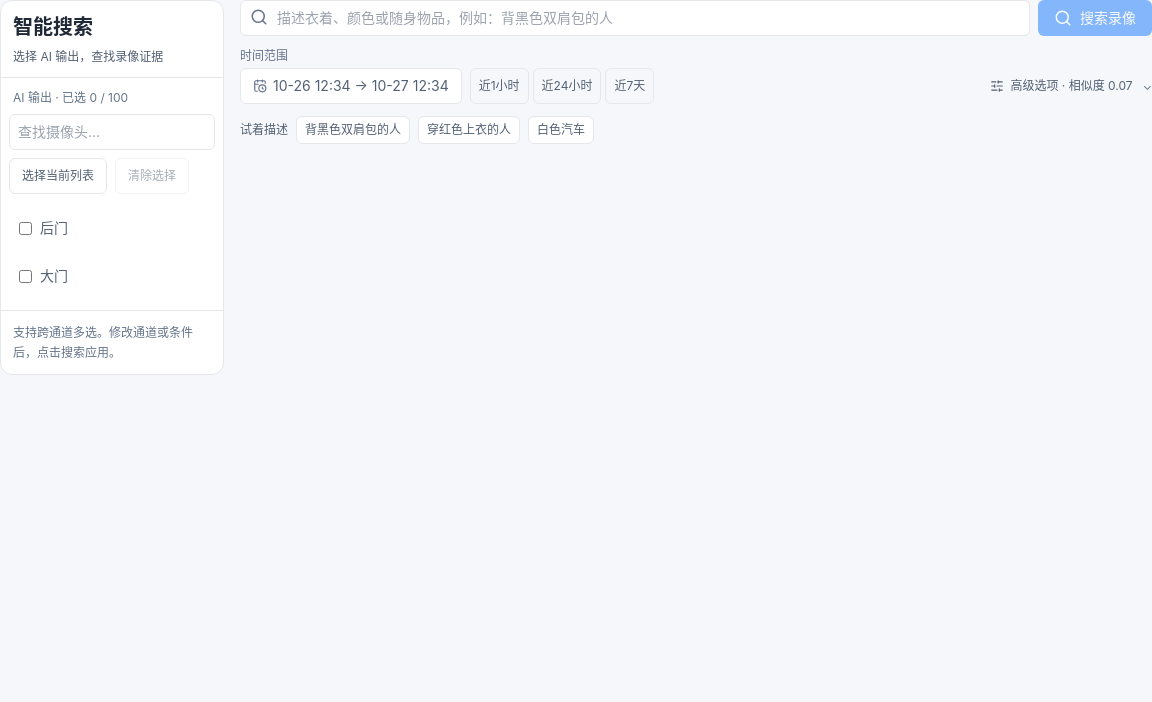
it: 近1小时 changes only the time draft until an explicit search, preserving previous evidence and coverage
Click the checkbox labelled "后门" at x=26, y=228, box [19,222,32,234]
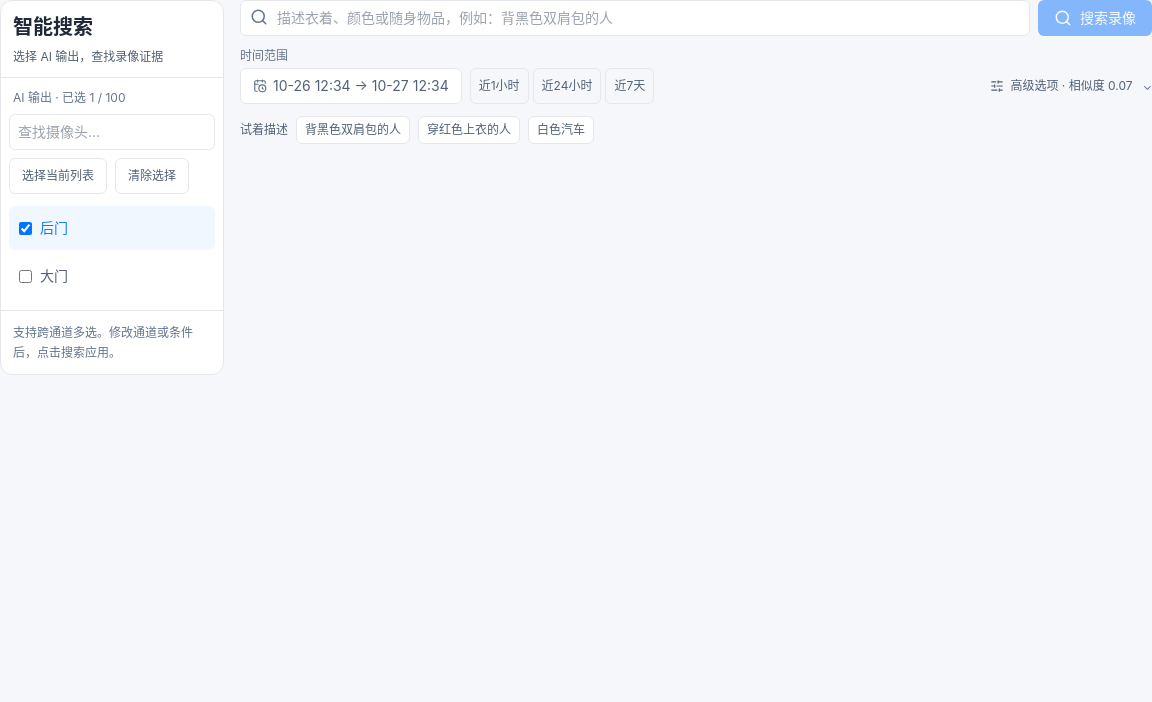
Type "黑色背包" into the field named "想找什么？" at x=635, y=18, box [240,0,1030,36]
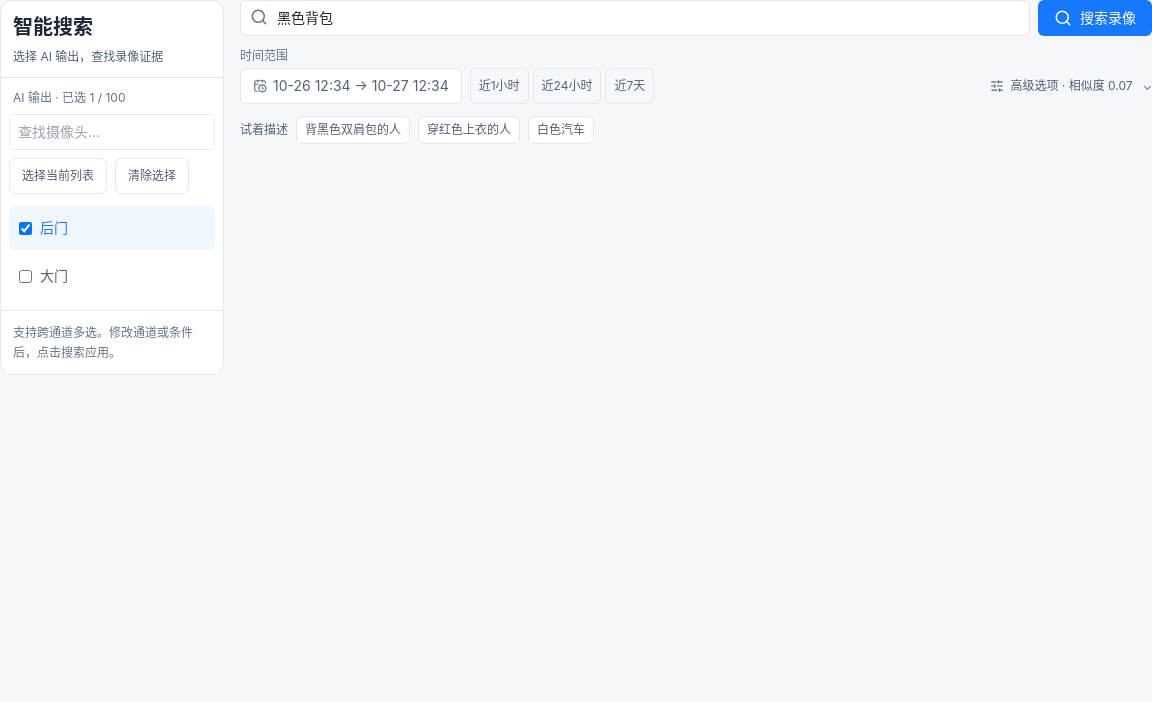
Click the button "搜索录像" at x=1095, y=18, box [1038,0,1151,36]
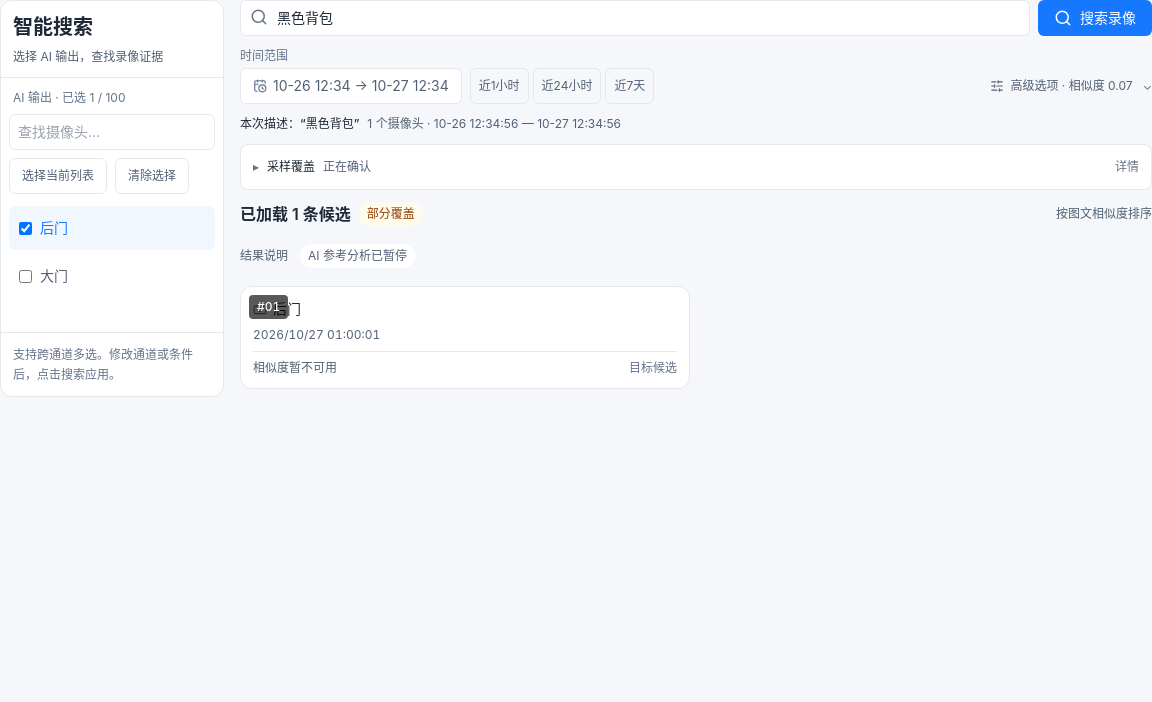
Click the button with aria-label "查看第 1 条候选：后门" at x=269, y=307, box [240,286,690,389]
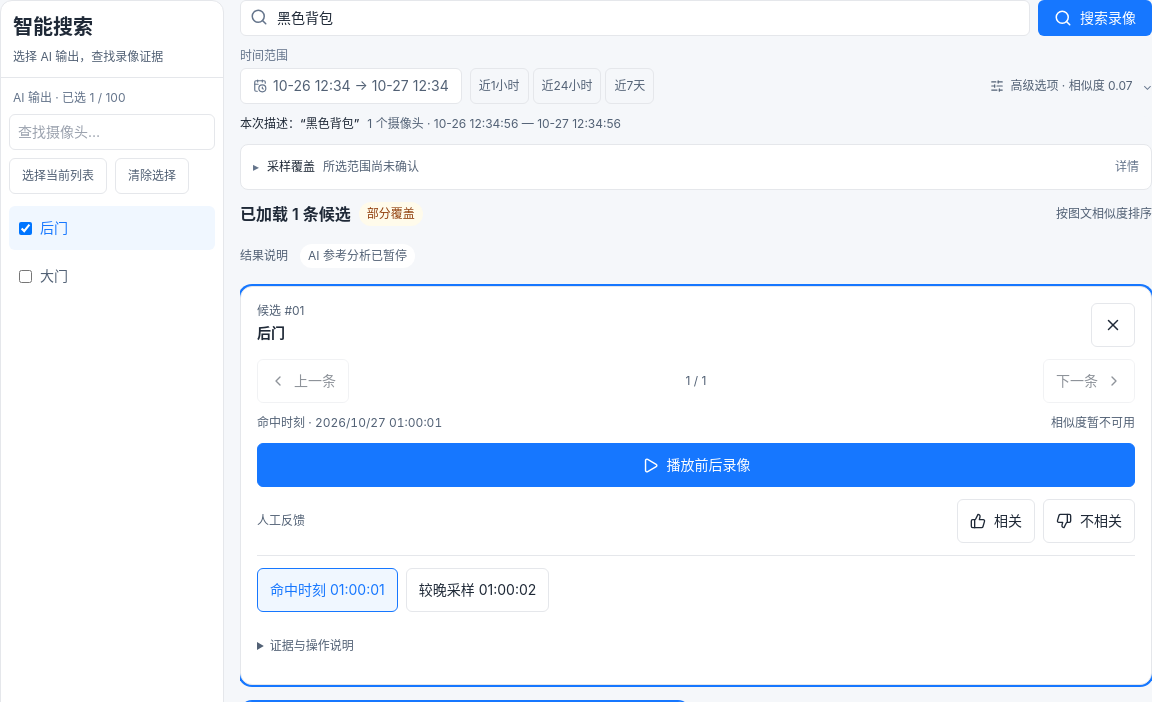
Click the button "近1小时" at x=499, y=86, box [470,68,529,104]
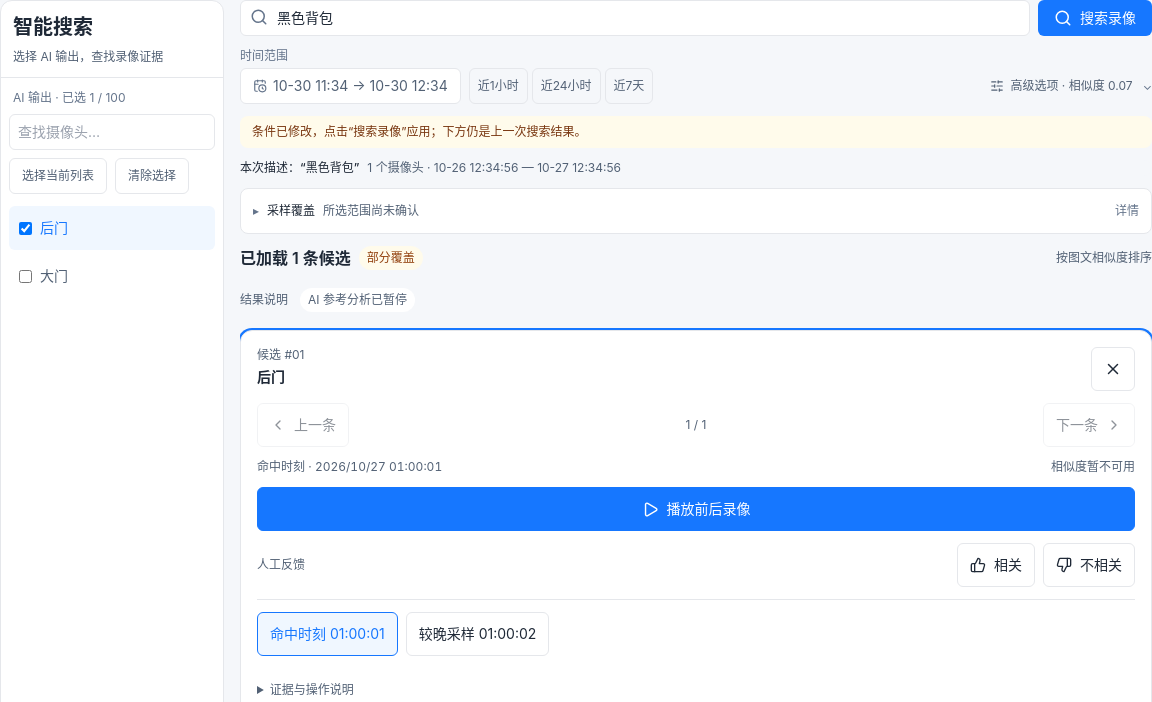
Check: the checkbox labelled "后门" is checked, box [19,222,32,234]
Check: the text "条件已修改，点击“搜索录像”应用；下方仍是上一次搜索结果。" is shown, box [240,116,1151,148]
Click the button "搜索录像" at x=1095, y=18, box [1038,0,1151,36]
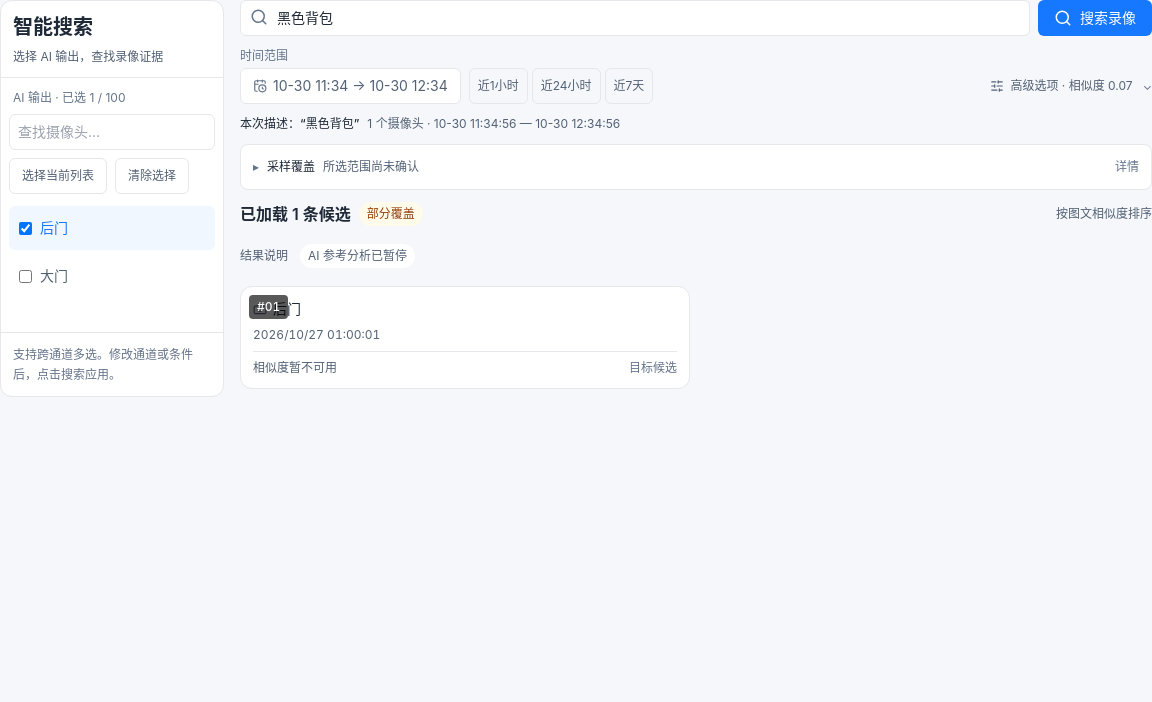
Check: the text "条件已修改" is gone
